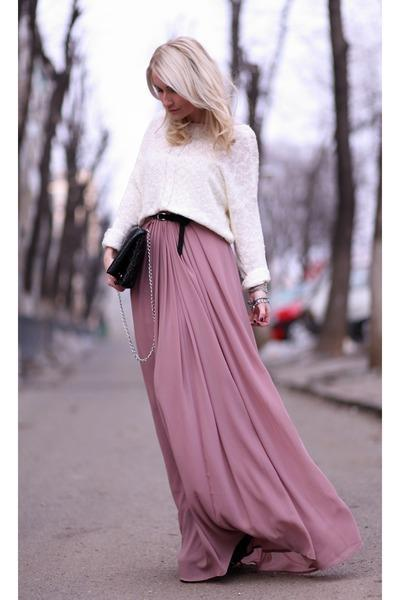bag: (108, 231, 153, 293)
shirt: (103, 110, 269, 286)
skirt: (130, 220, 359, 584)
